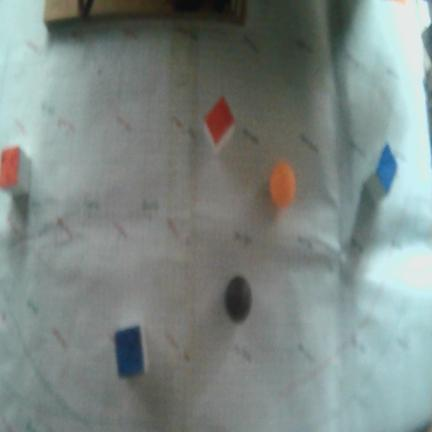circle_blue: (224, 276, 252, 324)
circle_orange: (269, 162, 295, 209)
rectangle_blue: (377, 144, 398, 195)
rectangle_orange: (206, 95, 237, 144)
square_blue: (115, 327, 145, 378)
square_orange: (0, 148, 19, 188)
